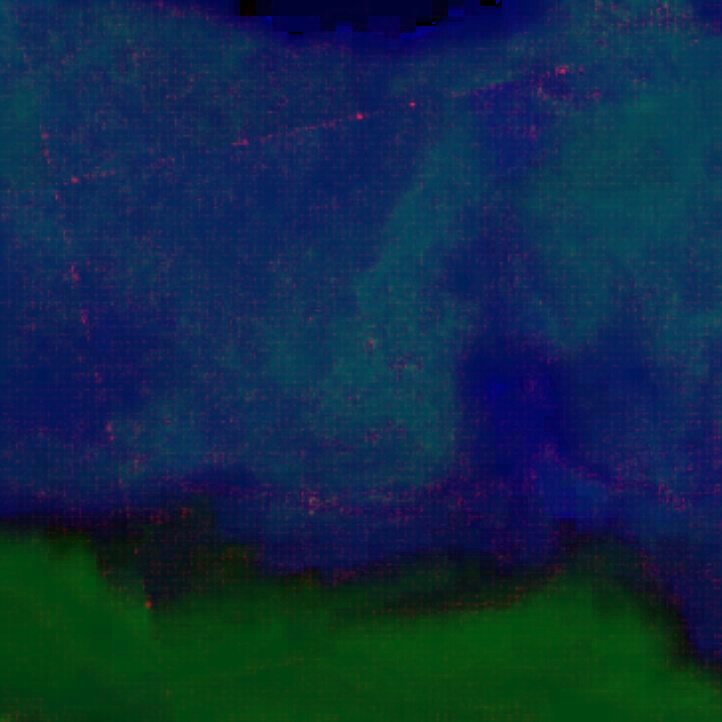rip_current: (282, 73, 540, 504)
